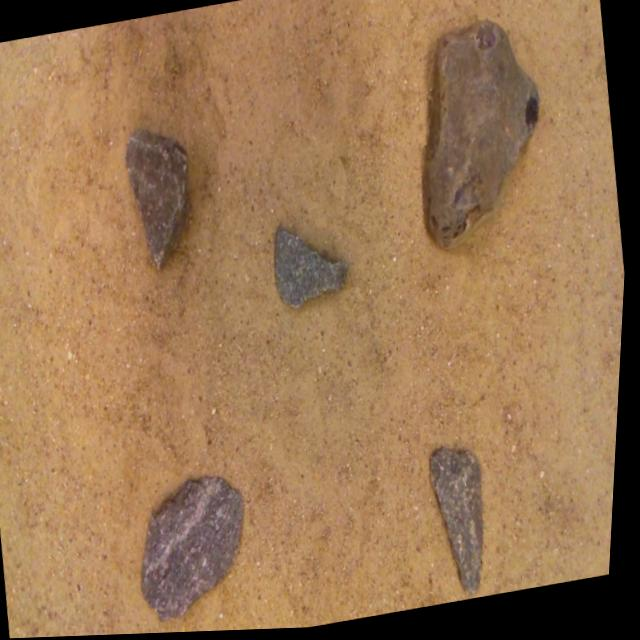rock: (423, 25, 539, 251), (147, 479, 248, 622), (126, 132, 190, 269), (434, 450, 488, 597), (276, 230, 350, 310)
